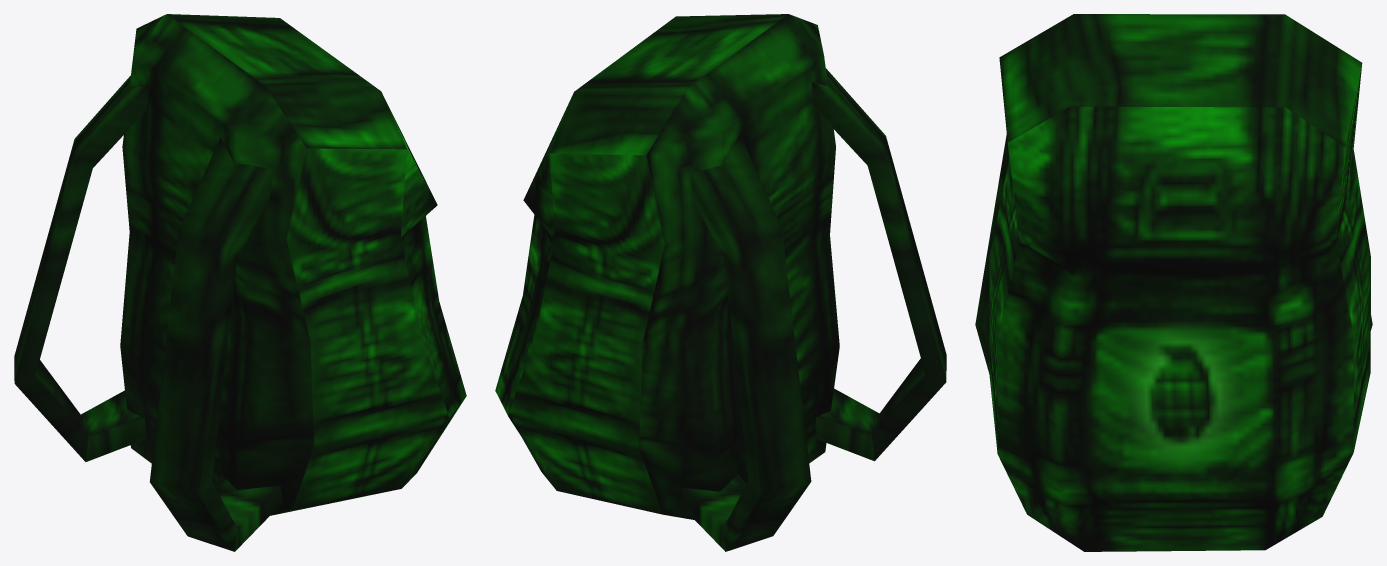
Rendered from back_gren.glb.
The picture shows the model from 3 angles, left to right: view 1: azimuth 30°, elevation 25°; view 2: azimuth 150°, elevation 25°; view 3: azimuth 270°, elevation 25°; orthographic projection. The views are drawn at different scales.
Visible parts, largest first — view 1: back_gren; view 2: back_gren; view 3: back_gren.
Boxes of the visible parts, x1,y1,x2,y2 form: back_gren: [14, 14, 466, 551]; back_gren: [495, 14, 946, 551]; back_gren: [975, 14, 1372, 551].
Bounding box in the file's own units: 22.8 × 28.24 × 22.26.
Materials: 1 (1 with a texture image).
